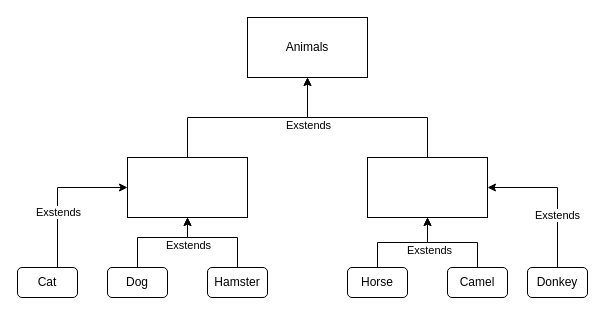
This 605x323 diagram has some shape labels left out. The shapes that lost their labels are listed below. From the top down, each one's box as (x1, y1, x2, y2) in pixels, then its label:
(126, 156, 248, 218): Pets
(366, 156, 488, 218): Pack animals
